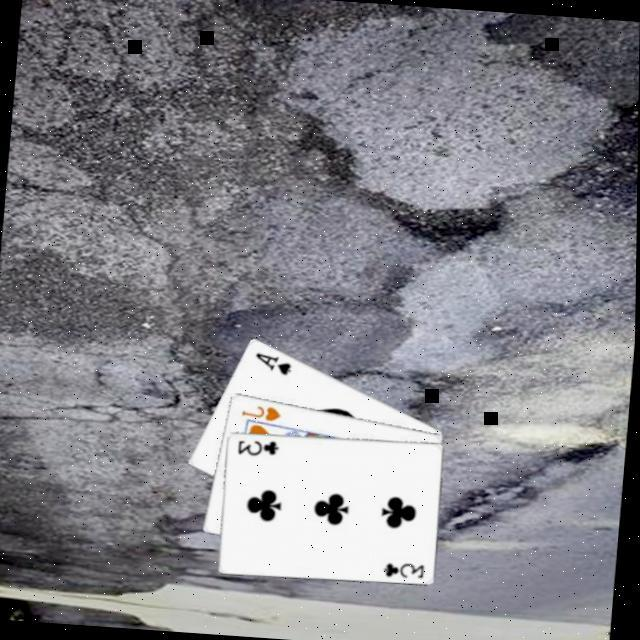3C: (234, 436, 282, 462), (379, 558, 426, 584)
AS: (250, 350, 295, 380)
JH: (238, 402, 284, 426)
